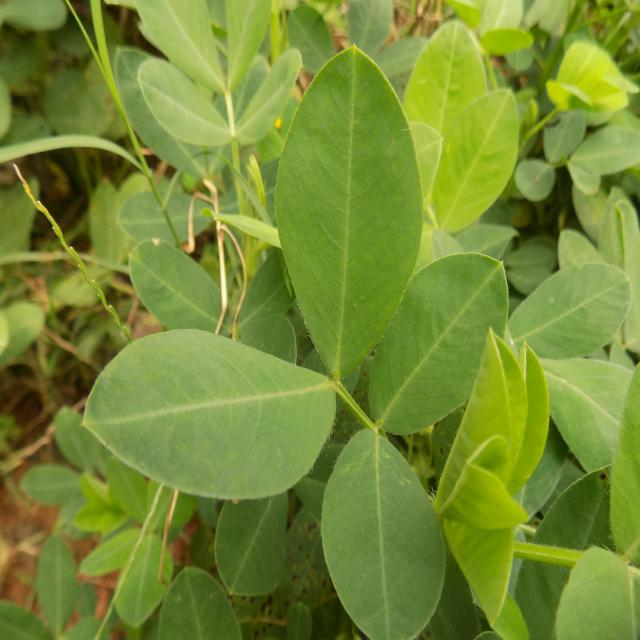Ground nut_healthy: (272, 45, 432, 381), (81, 334, 333, 501), (319, 417, 456, 640), (353, 249, 504, 427), (502, 260, 636, 374), (123, 228, 233, 338), (136, 60, 234, 145)
Ground nut_tikka leaf spot: (502, 240, 504, 242)
